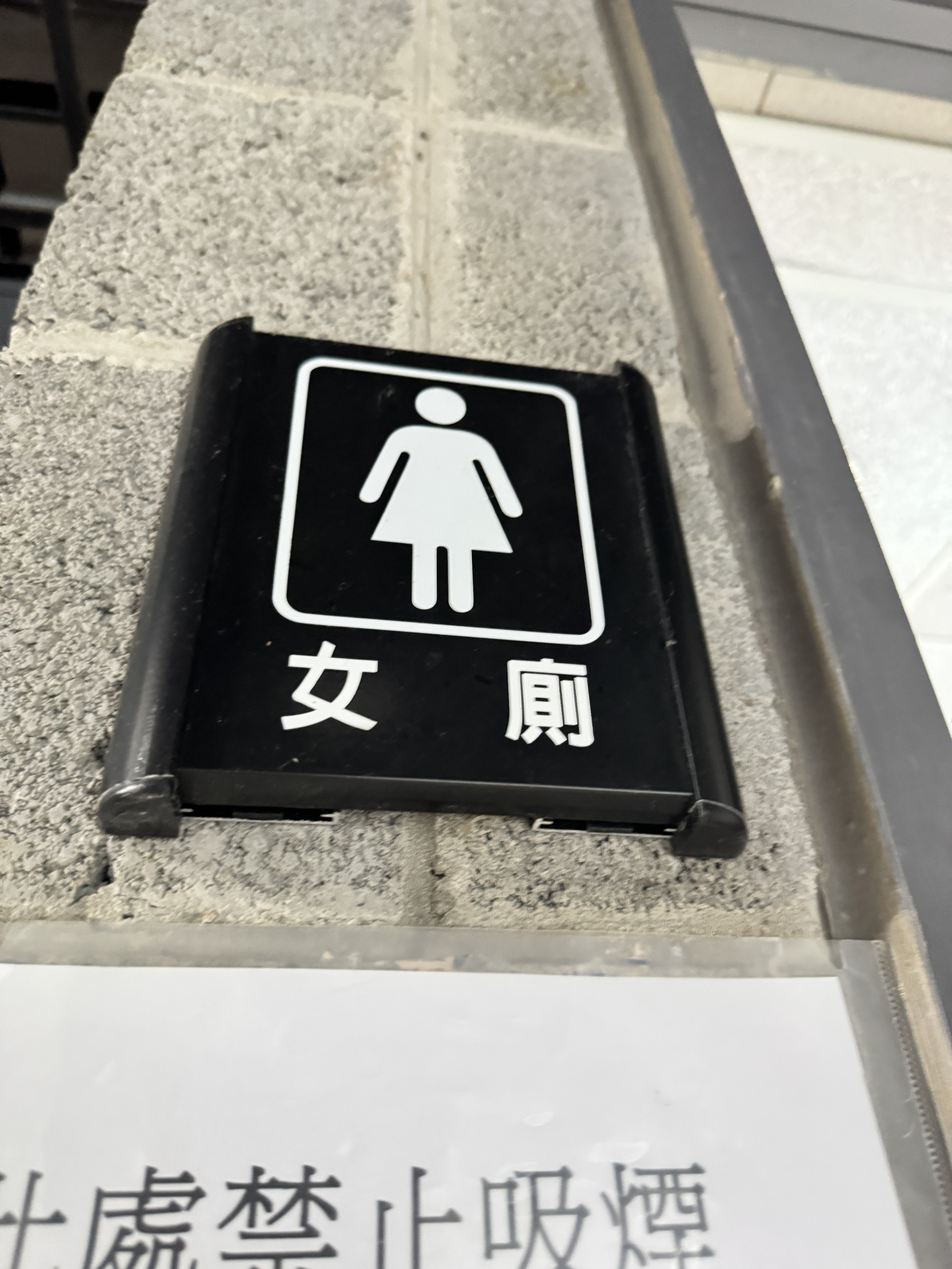toilet_sign: (90, 306, 748, 864), (116, 303, 766, 848)
